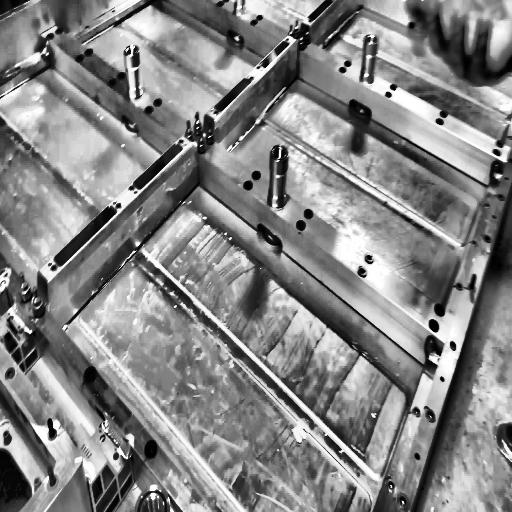b_casing: (0, 0, 509, 512)
